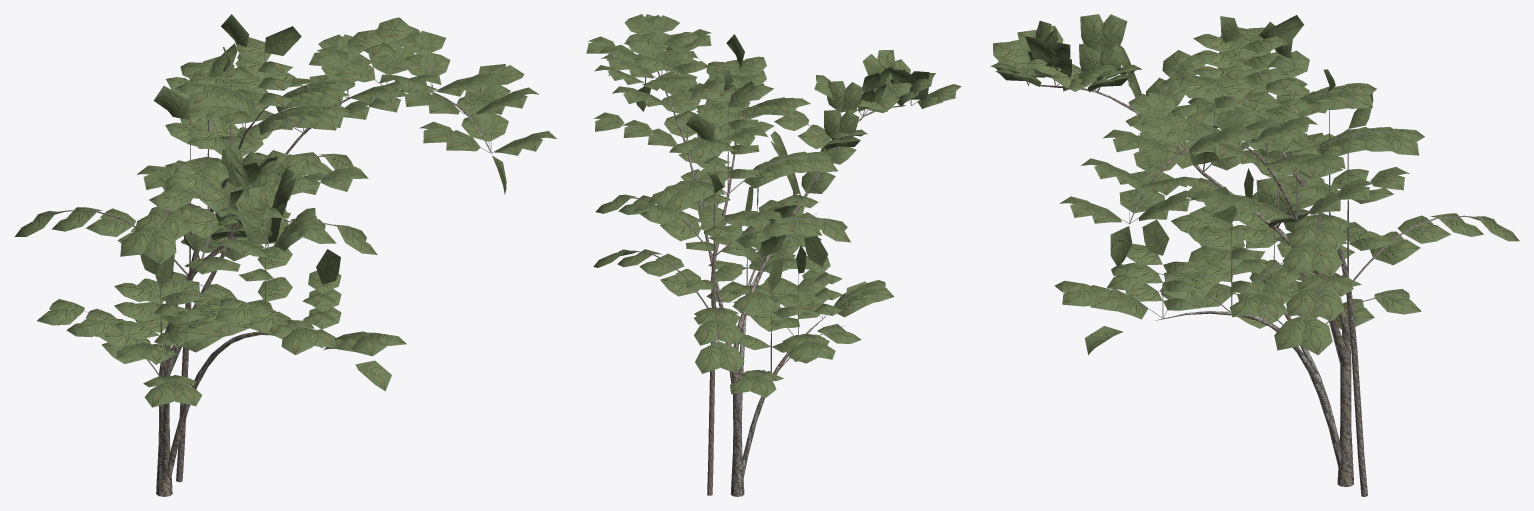
The model's file is sm10_023_grass01a.fbx.
The picture shows the model from 3 angles, left to right: view 1: azimuth 30°, elevation 25°; view 2: azimuth 150°, elevation 25°; view 3: azimuth 270°, elevation 25°; orthographic projection. The views are drawn at different scales.
Visible parts, largest first — view 1: LOD_1_Group_0_Sub_2__sm10_023_Grass01A_A_Mat, LOD_1_Group_0_Sub_1__sm10_023_Grass01A_B_Mat; view 2: LOD_1_Group_0_Sub_2__sm10_023_Grass01A_A_Mat, LOD_1_Group_0_Sub_1__sm10_023_Grass01A_B_Mat; view 3: LOD_1_Group_0_Sub_2__sm10_023_Grass01A_A_Mat, LOD_1_Group_0_Sub_1__sm10_023_Grass01A_B_Mat.
Boxes of the visible parts, x1,y1,x2,y2 form: LOD_1_Group_0_Sub_2__sm10_023_Grass01A_A_Mat: (14,14,556,407); LOD_1_Group_0_Sub_1__sm10_023_Grass01A_B_Mat: (43,36,504,496); LOD_1_Group_0_Sub_2__sm10_023_Grass01A_A_Mat: (586,14,961,397); LOD_1_Group_0_Sub_1__sm10_023_Grass01A_B_Mat: (619,26,938,496); LOD_1_Group_0_Sub_2__sm10_023_Grass01A_A_Mat: (990,14,1519,355); LOD_1_Group_0_Sub_1__sm10_023_Grass01A_B_Mat: (1017,29,1490,496).
Bounding box in the file's own units: 1.7 × 2.05 × 1.97.
